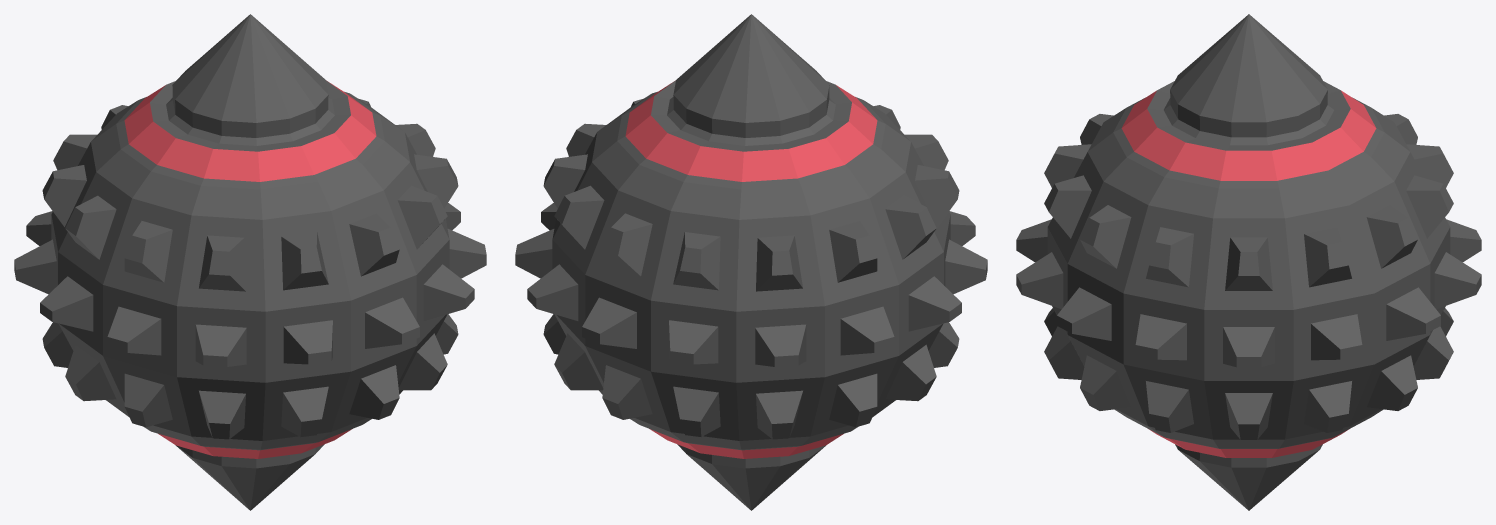
Rendered from ballistics_1.fbx.
The picture shows the model from 3 angles, left to right: view 1: azimuth 30°, elevation 25°; view 2: azimuth 150°, elevation 25°; view 3: azimuth 270°, elevation 25°; orthographic projection.
Parts seen in each view (by area): view 1: ballistics_1; view 2: ballistics_1; view 3: ballistics_1.
Part boxes in pixels (<box>): ballistics_1: <box>14,14,486,510</box>; ballistics_1: <box>515,14,987,510</box>; ballistics_1: <box>1016,14,1481,510</box>.
Bounding box in the file's own units: 185 × 215 × 183.
